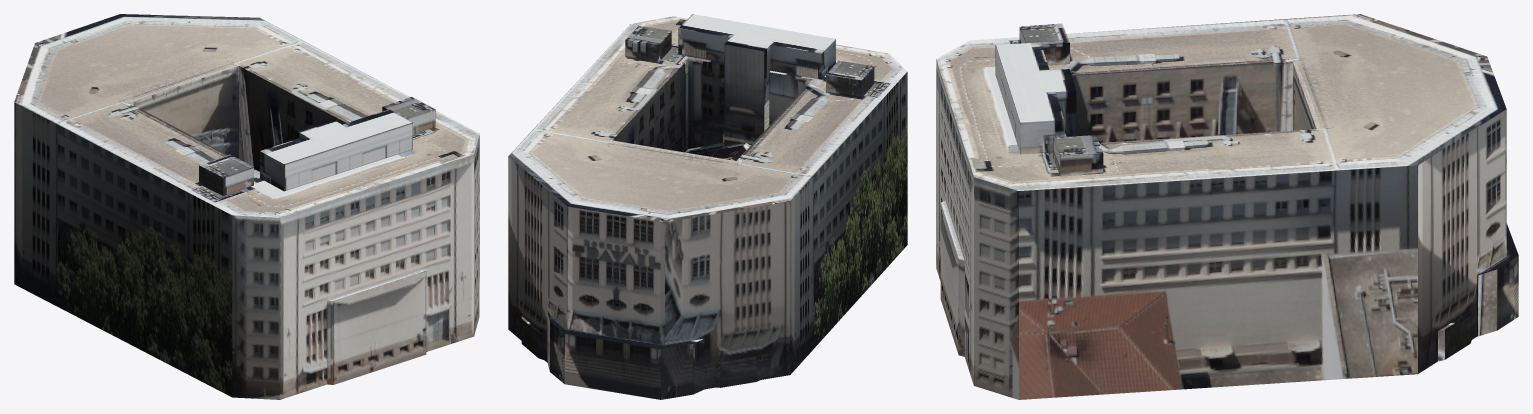
3 views of the same model, side by side, from view 1: azimuth 30°, elevation 25°; view 2: azimuth 150°, elevation 25°; view 3: azimuth 270°, elevation 25° (orthographic). The views are drawn at different scales.
Parts seen in each view (by area): view 1: Z_UP; view 2: Z_UP; view 3: Z_UP.
Part boxes in pixels (x1=…): Z_UP: x1=14, y1=14, x2=479, y2=399; Z_UP: x1=508, y1=14, x2=907, y2=399; Z_UP: x1=936, y1=14, x2=1518, y2=399.
Size of the model in its own units: 47.74 by 30.15 by 66.35.
2 materials, 1 textured.
